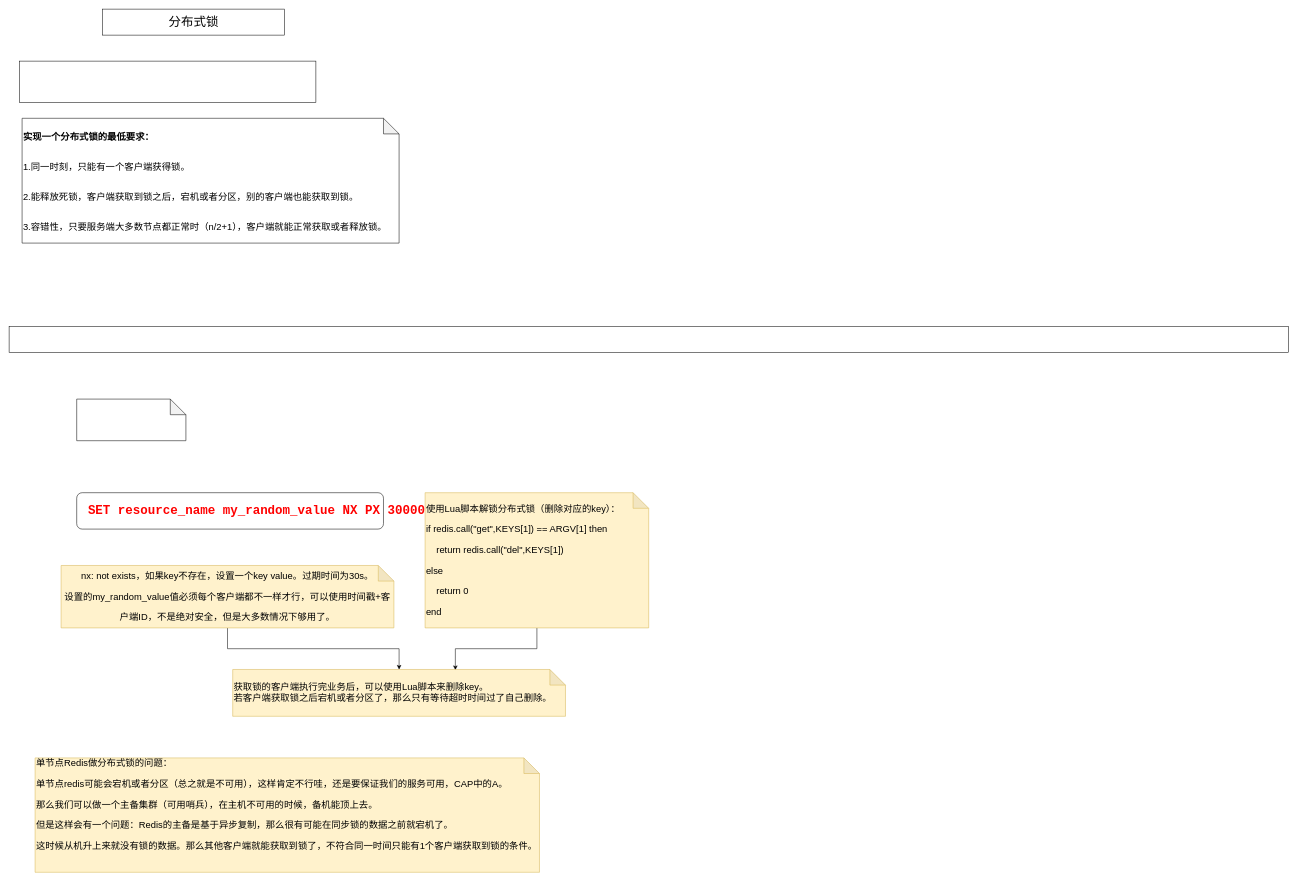
Image size: 1297x886. Some labels were removed from this diagram. Each missing label, with the centre of its shape:
"Redis分布式锁" goes at [648,339].
"分布式锁用于多个进程以互斥的行为访问共享资源" goes at [167,82].
"单实例的实现" goes at [131,420].
